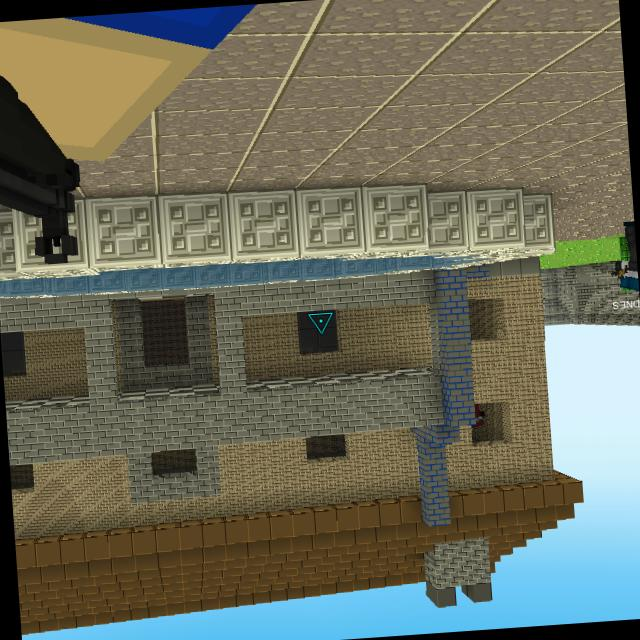enemy: (467, 404, 485, 432)
